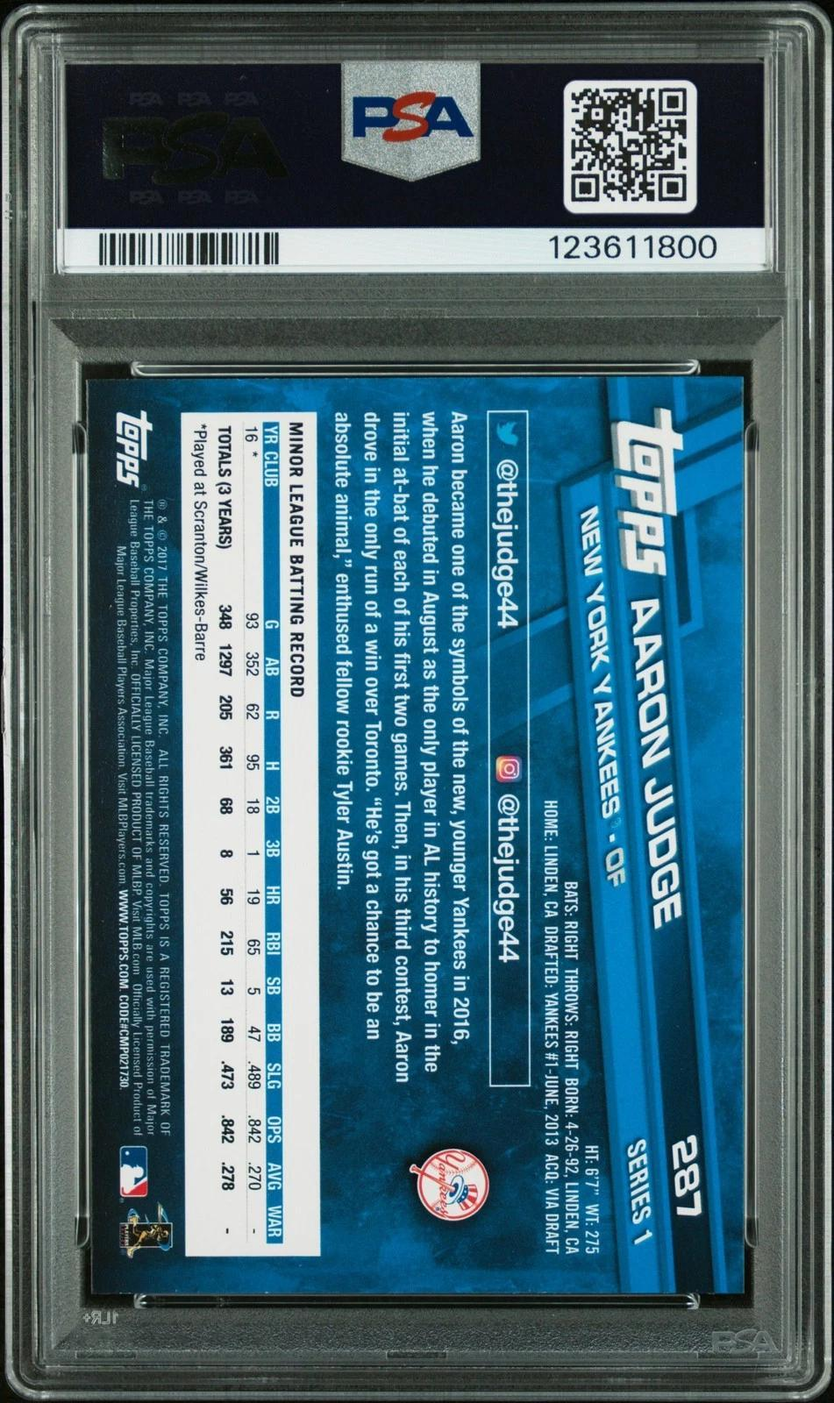card-2UtV: (86, 375, 745, 1295)
